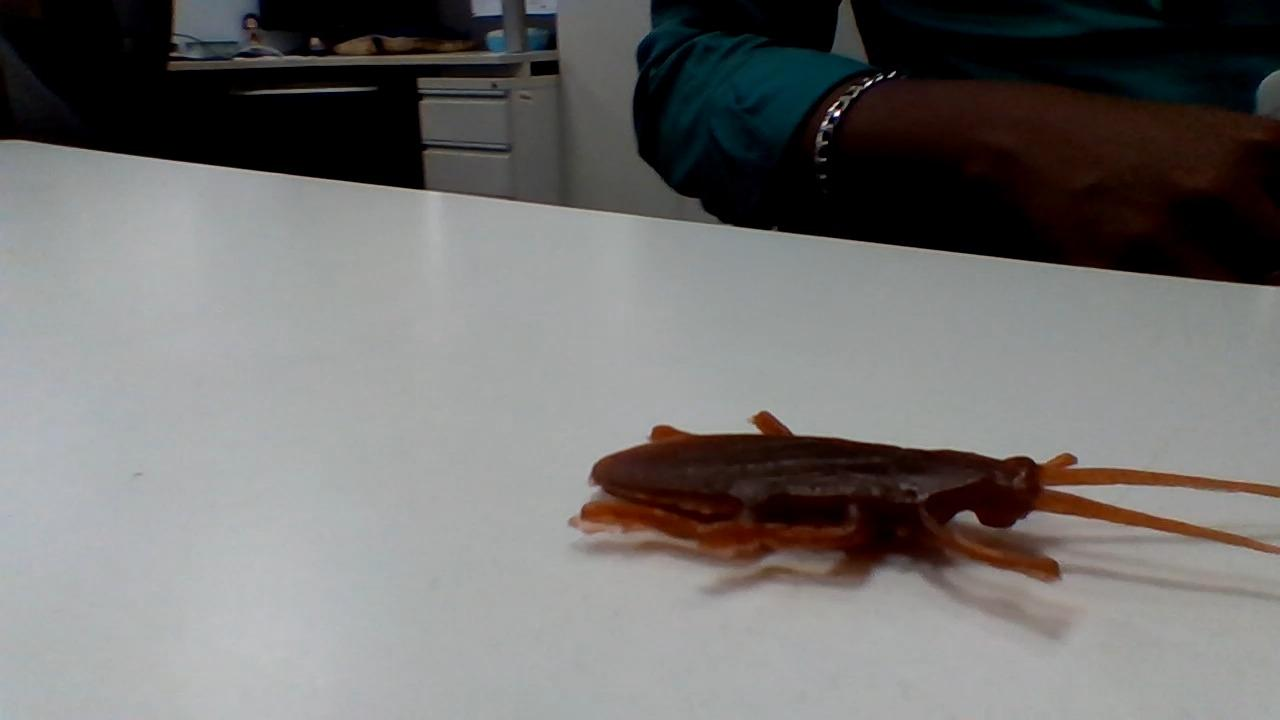cockroach: (582, 417, 1280, 584)
